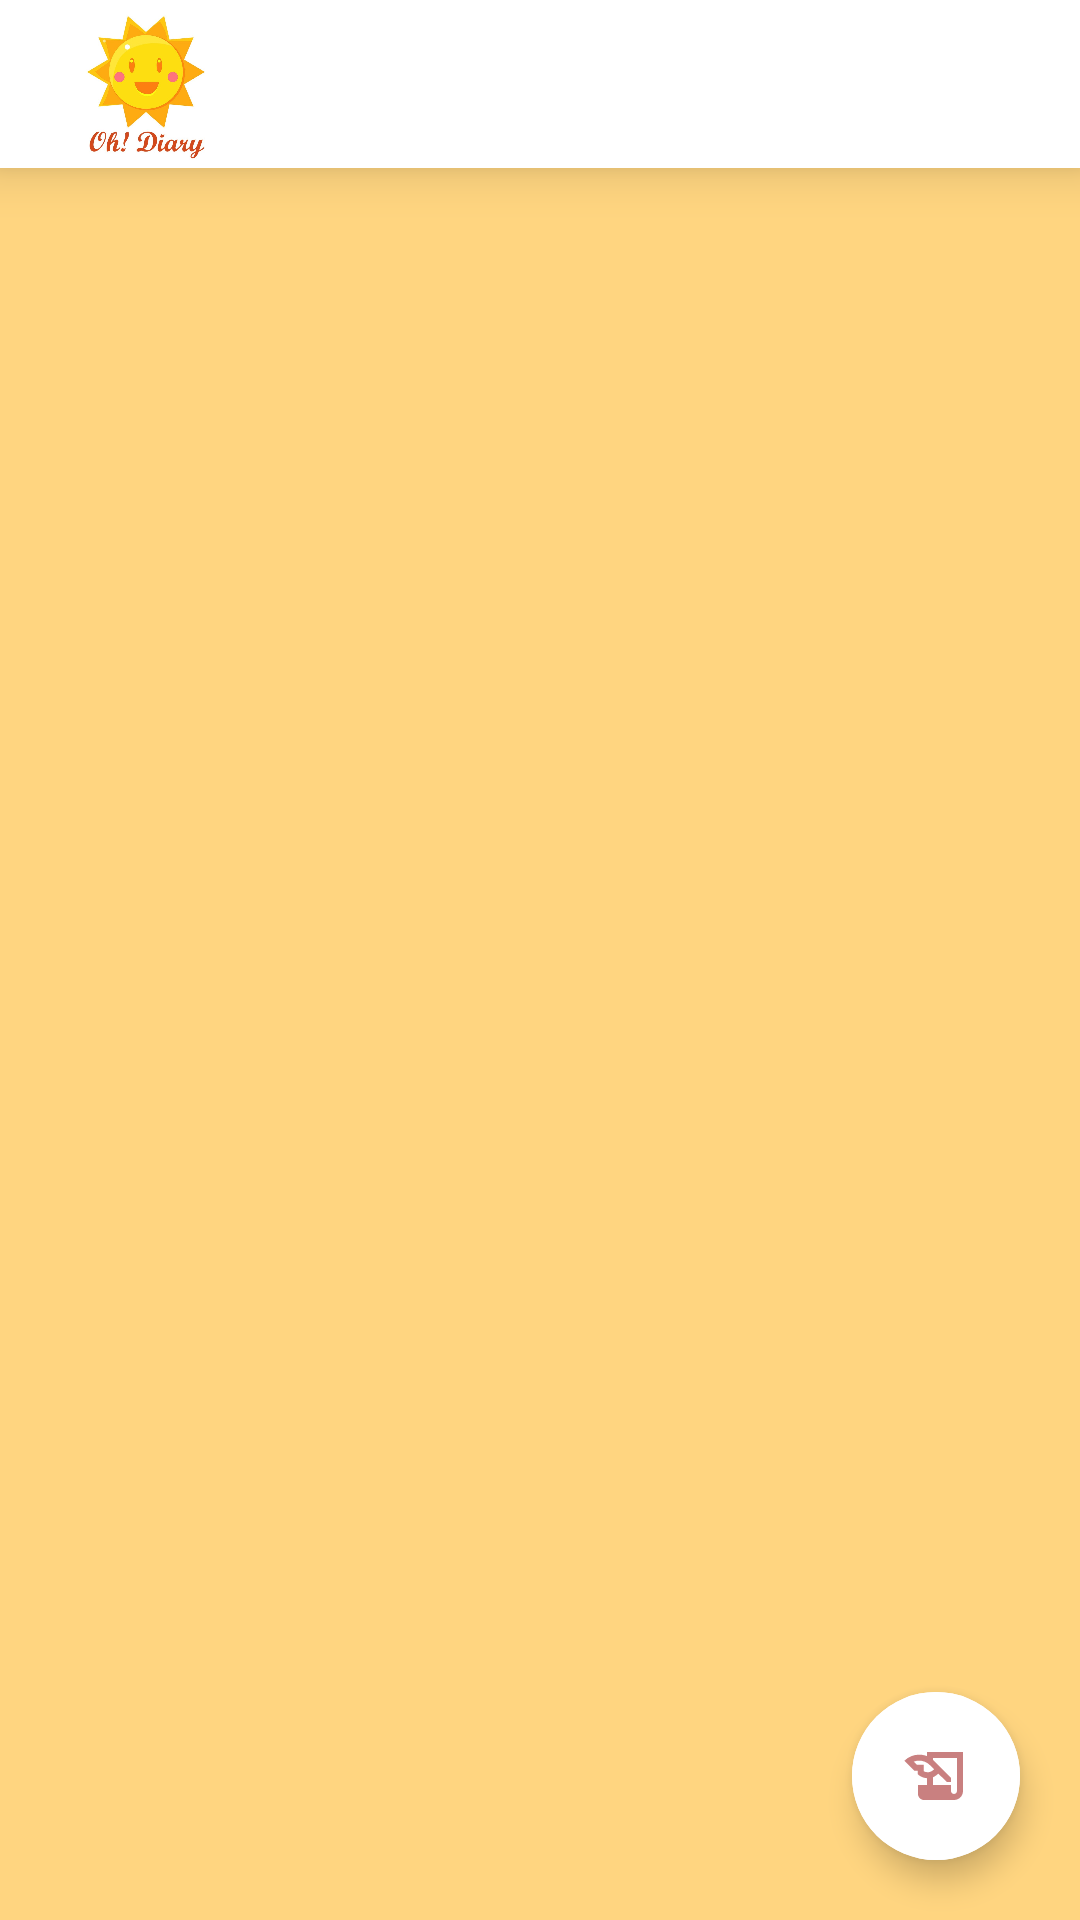

Point at icon controls on the screen. Image size 1080px×1920px, points as [x,y].
pen: [936,1776]
